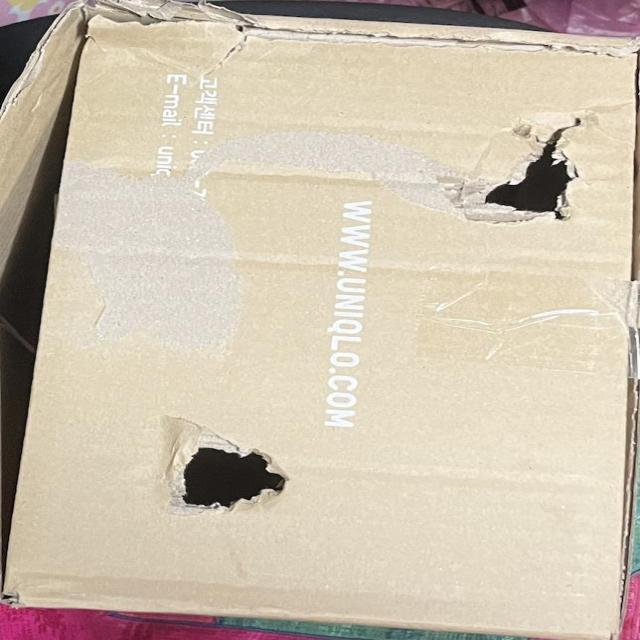damaged: (458, 102, 598, 232), (160, 422, 298, 520)
